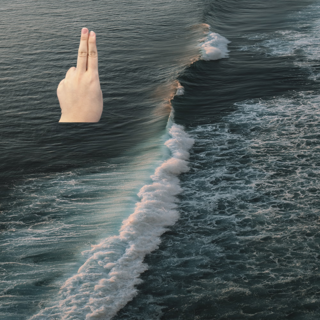DHAVE: (50, 24, 107, 120)
